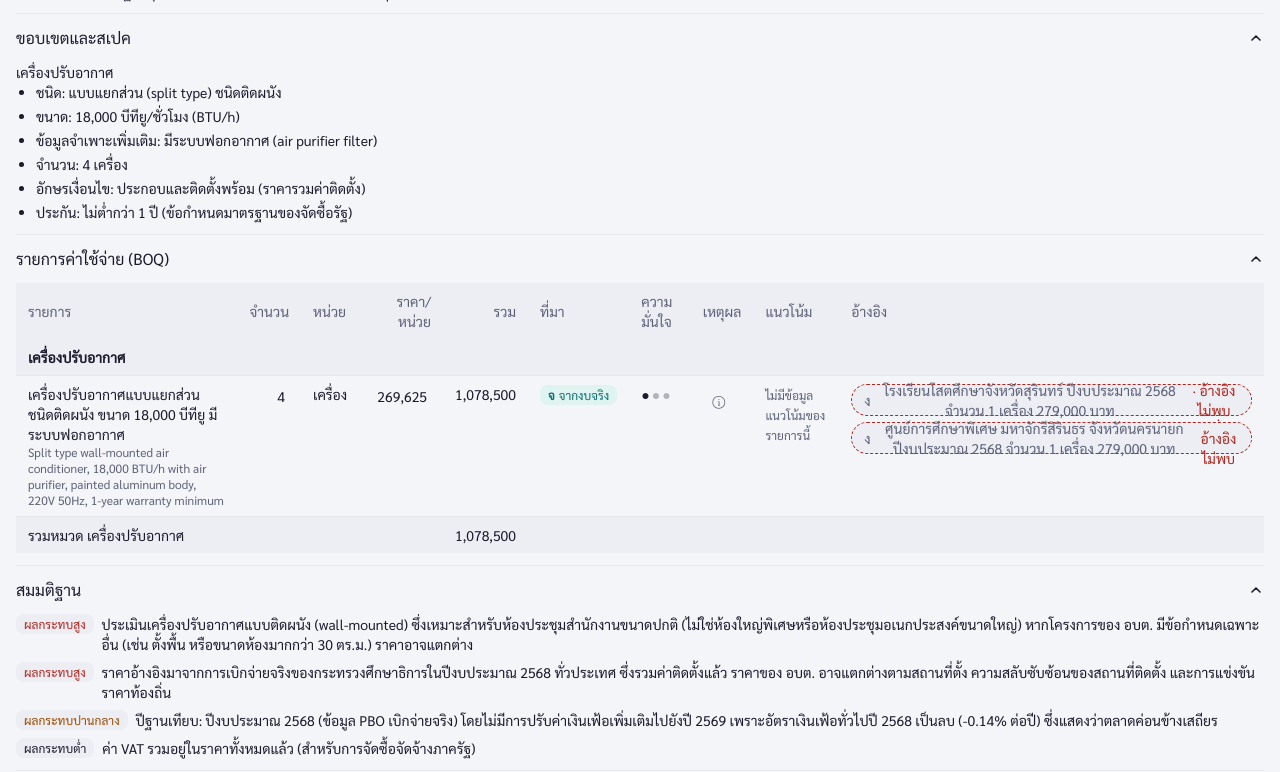
Test case: ProposalPaneContainer × CitationDrawerContainer — คลิก citation chip › ไม่มี shard hint ใน ToolLog (เช่น citation จากไฟล์เก่า) → ไม่เรียก getLines, แสดง "ไม่พบ" แทน
The image size is (1280, 772).
(page scrolled)
Click the button "โรงเรียนโสตศึกษาจังหวัดสุรินทร์".
click(1052, 400)  # box [851,384,1252,416]
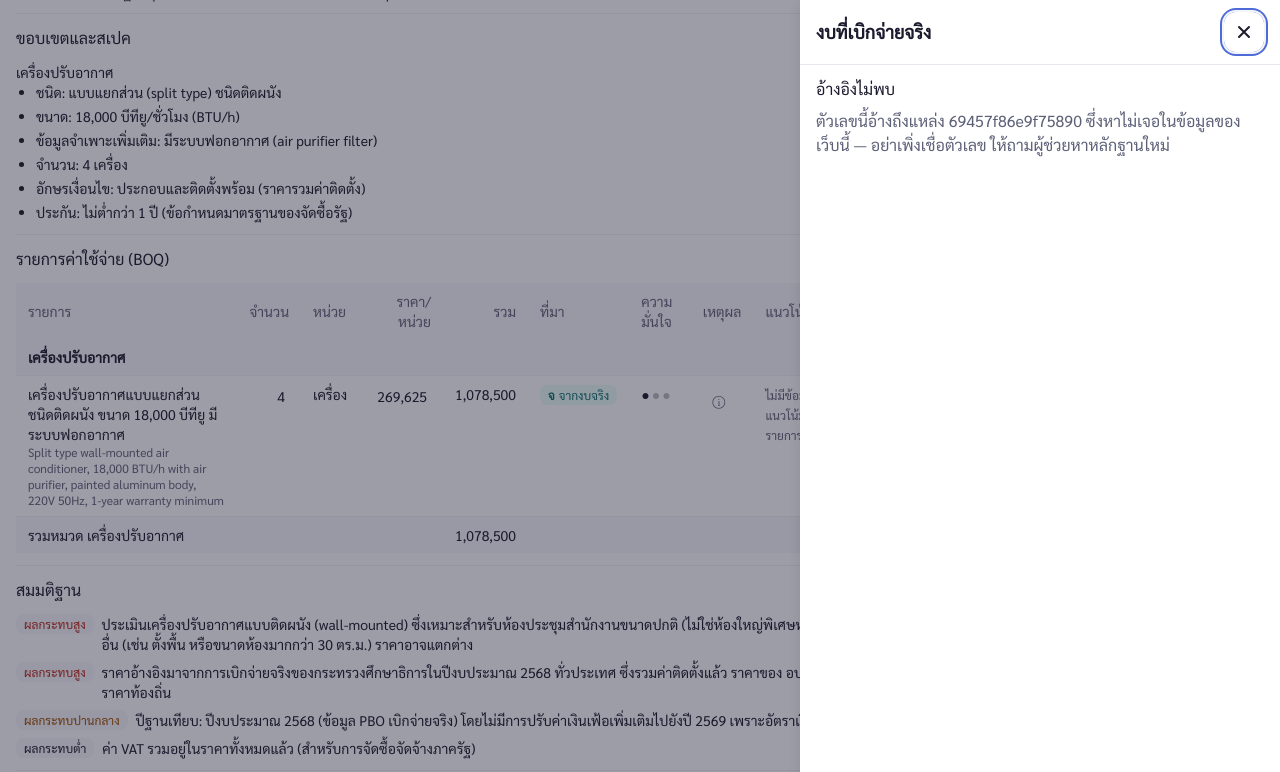
Expected: the text "อ้างอิงไม่พบ" is shown, [816,78,895,99]
